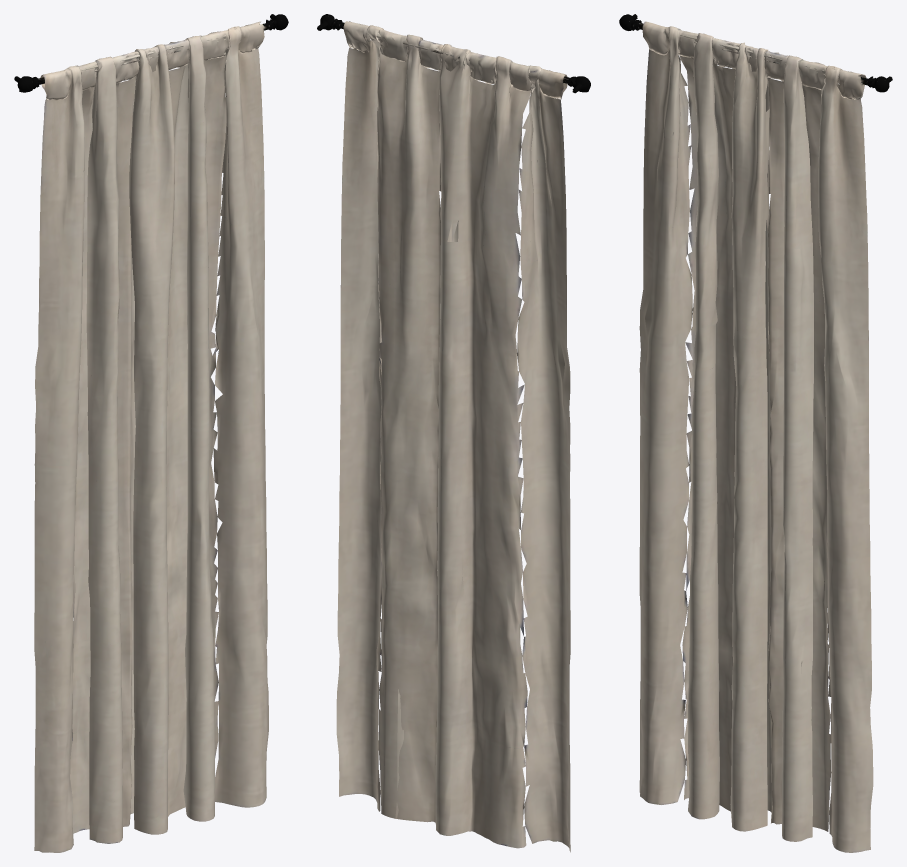
The model's file is desktop.glb.
The picture shows the model from 3 angles, left to right: view 1: azimuth 30°, elevation 25°; view 2: azimuth 150°, elevation 25°; view 3: azimuth 330°, elevation 25°; orthographic projection.
Parts seen in each view (by area): view 1: curtain; view 2: curtain; view 3: curtain.
Part boxes in pixels (<box>): curtain: <box>14,14,288,852</box>; curtain: <box>317,14,590,852</box>; curtain: <box>619,14,892,852</box>.
Size of the model in its own units: 0.8325 by 2.3 by 0.1512.
1 material, 1 textured.
